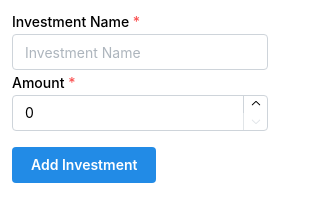
it: InvestmentForm › submits the form successfully
In the field with placeholder "Investment Name": (140, 52) [12, 34, 268, 70], type "Test Investment"
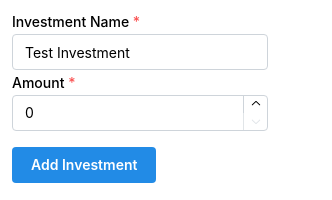
Replace the text in the field with placeholder "Amount" with "1000": (140, 113) [12, 95, 268, 131]
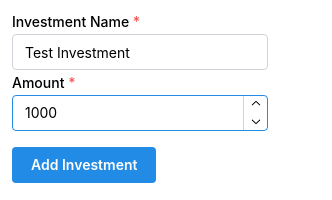
Click the button "Add Investment": (84, 165) [12, 147, 156, 183]
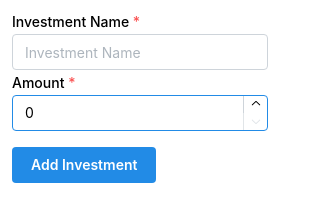
Expected: the field with placeholder "Investment Name" is empty, [12, 34, 268, 70]
Expected: the field with placeholder "Amount" holds "0", [12, 95, 268, 131]
